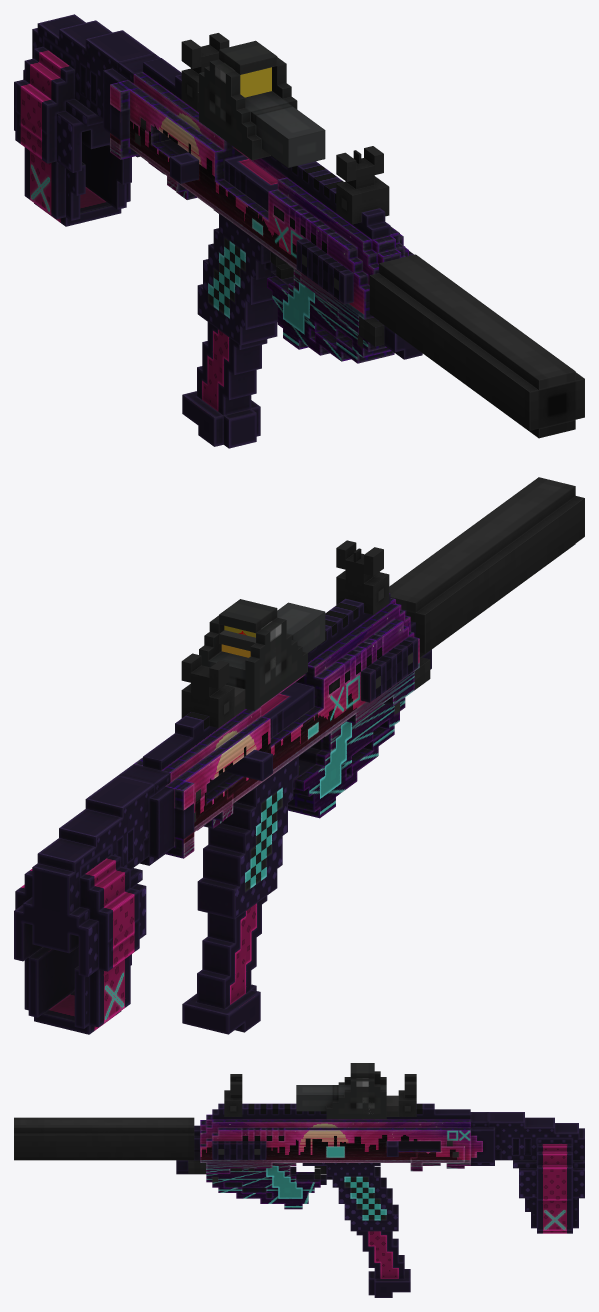
File: RD_GLOCK18C_RETRO.glb
3 views of the same model, one above another, from view 1: azimuth 30°, elevation 25°; view 2: azimuth 150°, elevation 25°; view 3: azimuth 270°, elevation 25° (orthographic). The views are drawn at different scales.
Parts seen in each view (by area): view 1: GLOCK18C, SILENCER_6X6, SCOPE_EOTECH, GLOCK18C_CLIP, GLOCK18C_SCOPE, GLOCK18C_BOLT; view 2: GLOCK18C, SILENCER_6X6, SCOPE_EOTECH, GLOCK18C_CLIP, GLOCK18C_SCOPE, GLOCK18C_BOLT, SCOPE_TRIJICON; view 3: GLOCK18C, SILENCER_6X6, SCOPE_EOTECH, GLOCK18C_CLIP, GLOCK18C_SCOPE, SCOPE_TRIJICON.
Boxes of the visible parts, x1,y1,x2,y2 form: GLOCK18C: [14, 14, 422, 363]; SILENCER_6X6: [369, 254, 584, 438]; SCOPE_EOTECH: [199, 40, 325, 167]; GLOCK18C_CLIP: [182, 322, 267, 448]; GLOCK18C_SCOPE: [181, 33, 389, 224]; GLOCK18C_BOLT: [170, 152, 277, 210]; GLOCK18C: [14, 593, 431, 1034]; SILENCER_6X6: [389, 477, 584, 657]; SCOPE_EOTECH: [199, 599, 325, 710]; GLOCK18C_CLIP: [182, 896, 267, 1034]; GLOCK18C_SCOPE: [181, 540, 389, 727]; GLOCK18C_BOLT: [224, 682, 314, 780]; SCOPE_TRIJICON: [219, 630, 275, 715]; GLOCK18C: [176, 1103, 584, 1233]; SILENCER_6X6: [14, 1117, 194, 1160]; SCOPE_EOTECH: [296, 1063, 386, 1119]; GLOCK18C_CLIP: [356, 1231, 410, 1297]; GLOCK18C_SCOPE: [224, 1074, 416, 1116]; SCOPE_TRIJICON: [362, 1093, 398, 1119].
Size of the model in its own units: 0.0984 by 0.4034 by 0.9348.
6 materials, 6 textured.
